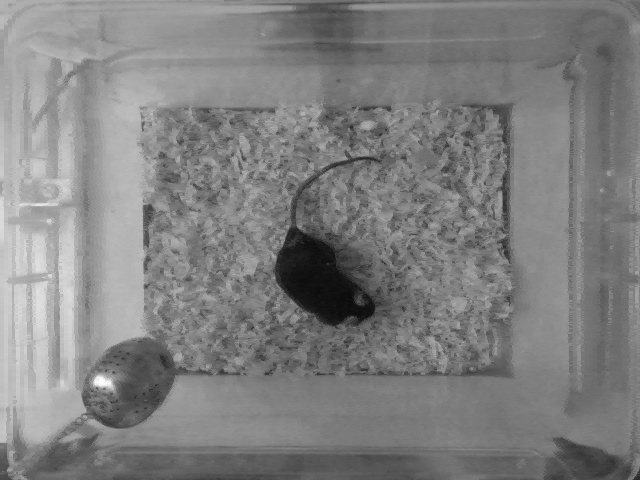mice: (279, 153, 381, 328)
